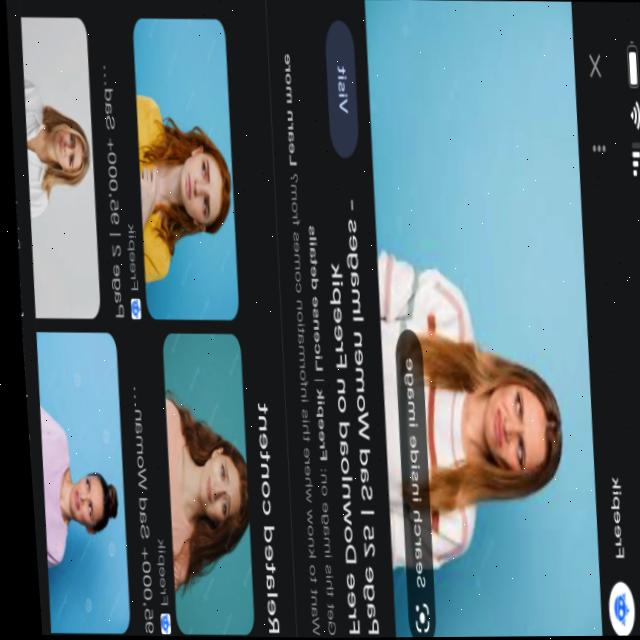angry: (473, 370, 551, 478)
